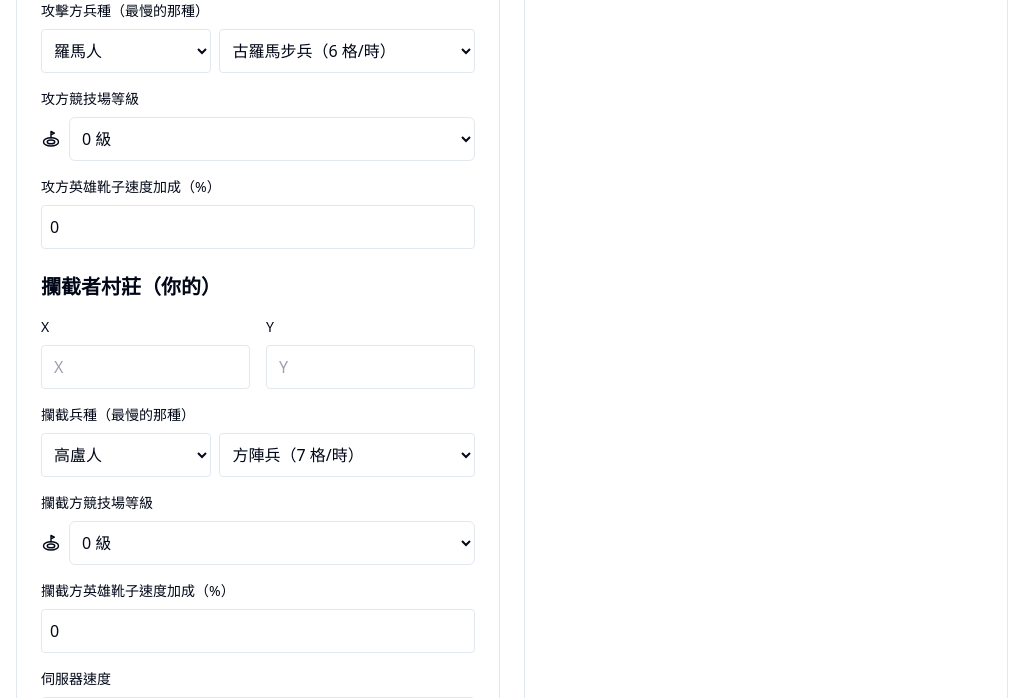
Test: 攔截計算 › shows 「（明天）」 when the return crosses midnight
The image size is (1024, 698).
(page scrolled)
Type "5" into the field with test id "catcher-x".
click(146, 367); type("5")  # box [41,345,250,389]
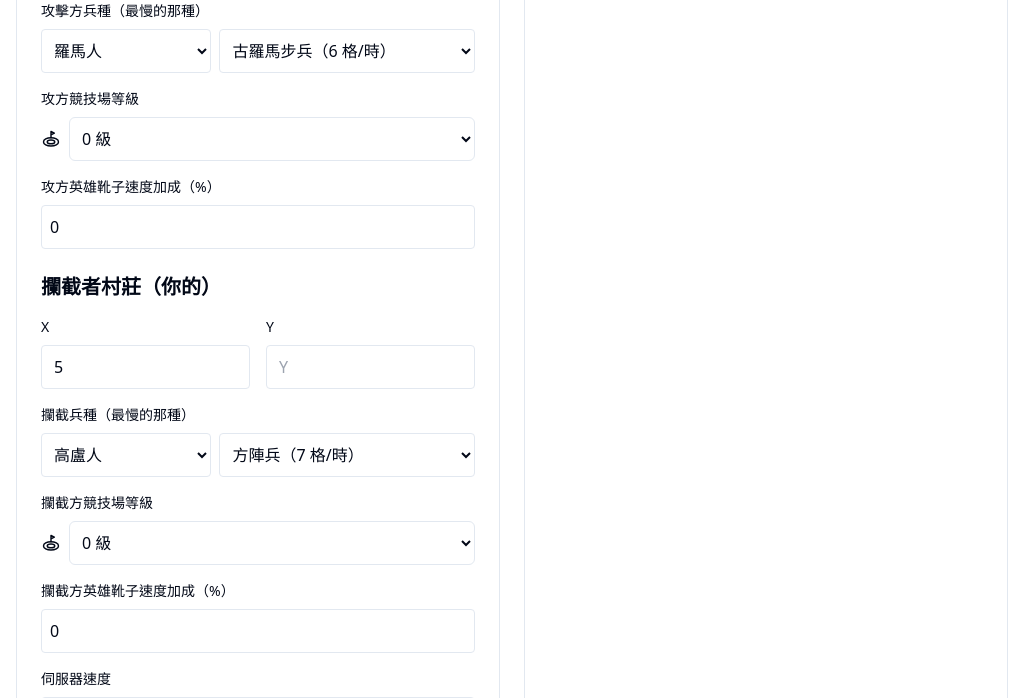
Type "5" into the field with test id "catcher-y".
click(370, 367); type("5")  # box [266,345,475,389]
(page scrolled)
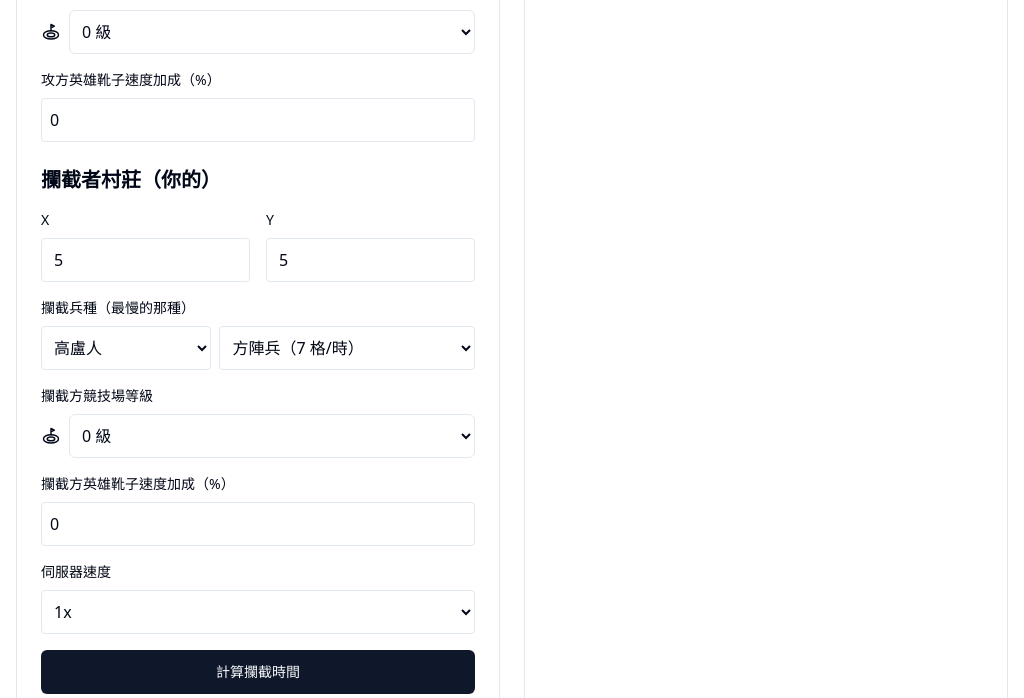
Click the button "計算攔截時間".
click(258, 672)  # box [41,650,475,694]
(page scrolled)
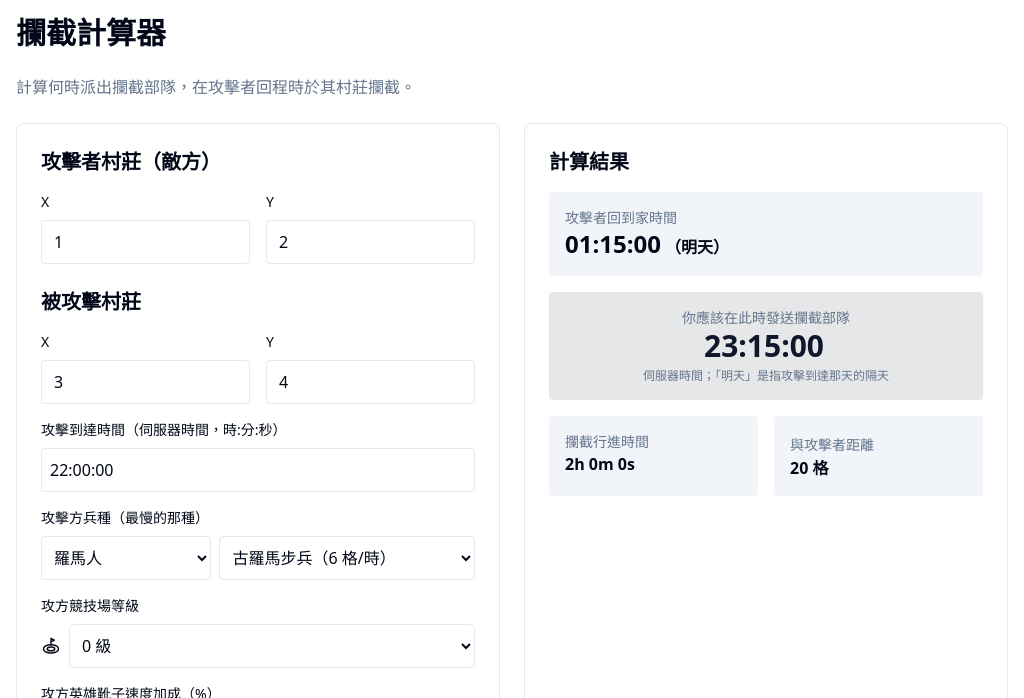
Check: the element with test id "intercept-send-time" does not show "明天", box [704,325,824,366]
Check: the element with test id "intercept-return-time" reads "01:15:00（明天）", box [565,227,729,260]
